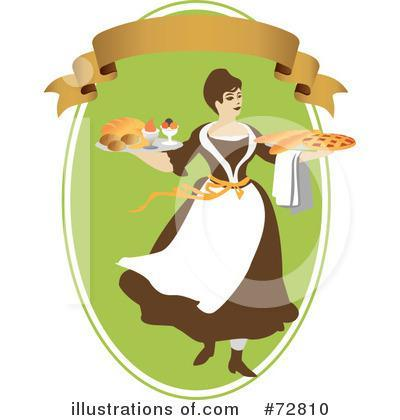person: (115, 67, 304, 382)
